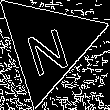N_N: (22, 14, 75, 75)
